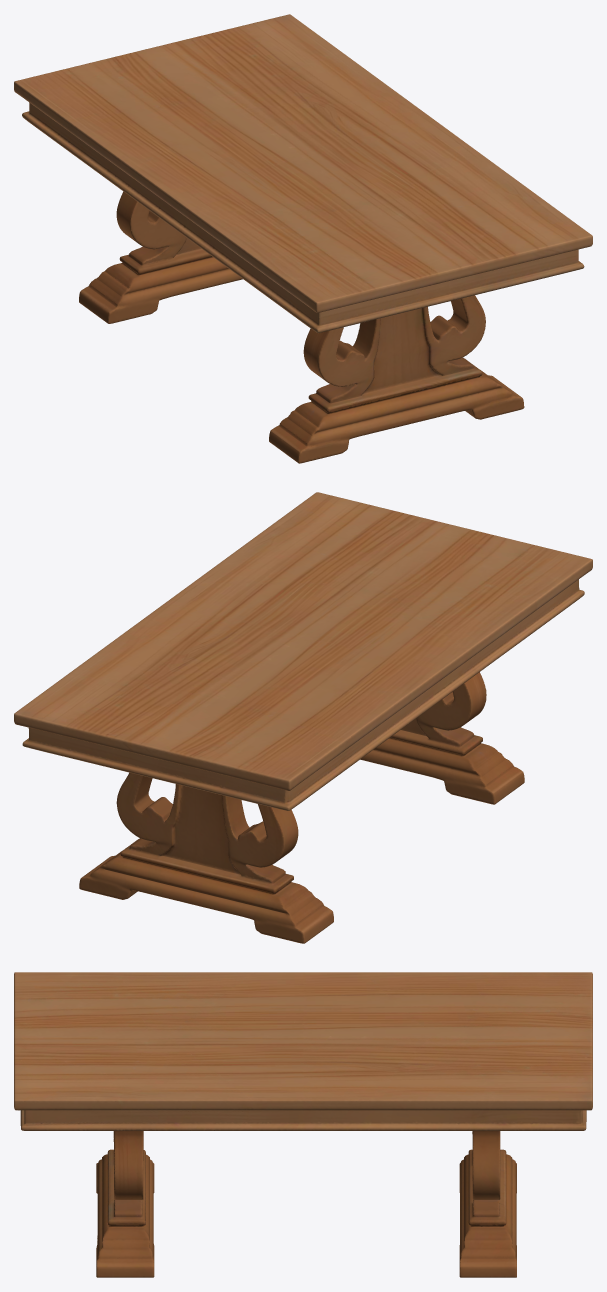
The model's file is detailed_realistic_model_grandoaktable_04.glb.
The picture shows the model from 3 angles, top to bottom: view 1: azimuth 30°, elevation 25°; view 2: azimuth 150°, elevation 25°; view 3: azimuth 270°, elevation 25°; orthographic projection. The views are drawn at different scales.
Parts seen in each view (by area): view 1: tripo_node_2b32252e-cee2-4481-be14-68b6793e52c6; view 2: tripo_node_2b32252e-cee2-4481-be14-68b6793e52c6; view 3: tripo_node_2b32252e-cee2-4481-be14-68b6793e52c6.
Part boxes in pixels (box(x1,y1,x2,y2)): tripo_node_2b32252e-cee2-4481-be14-68b6793e52c6: box(14, 14, 592, 463); tripo_node_2b32252e-cee2-4481-be14-68b6793e52c6: box(14, 492, 592, 943); tripo_node_2b32252e-cee2-4481-be14-68b6793e52c6: box(14, 972, 592, 1277).
Size of the model in its own units: 0.5262 by 0.3619 by 1.
1 material, 1 textured.
